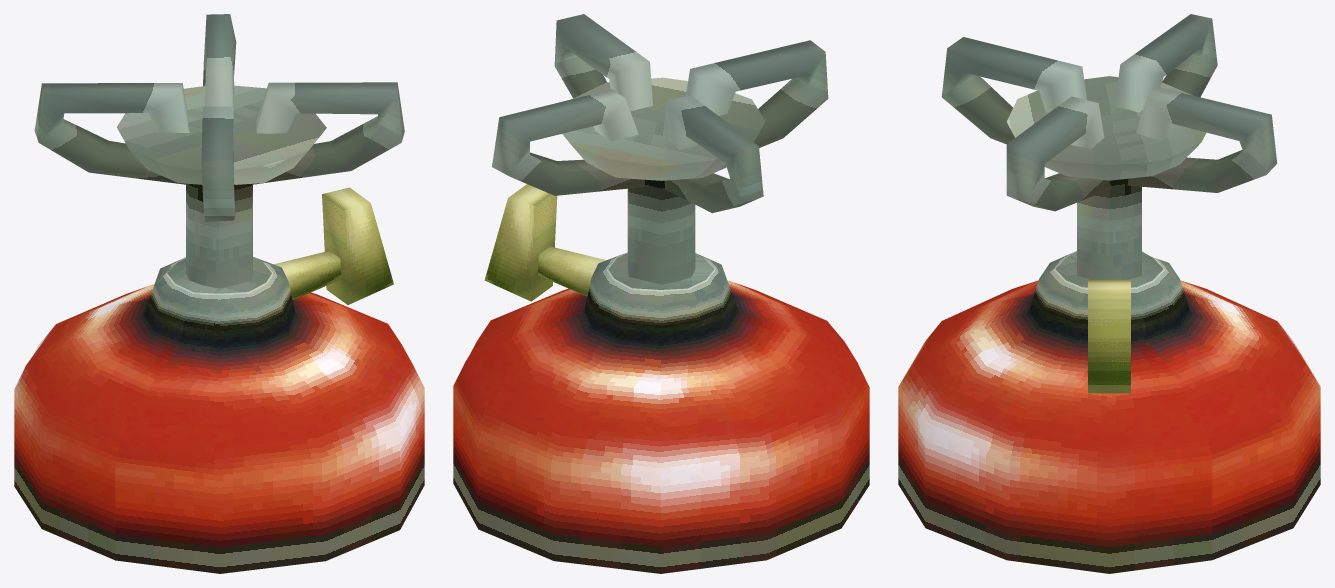
Rendered from a-gass-1.glb.
3 renders of one model, left to right at view 1: azimuth 30°, elevation 25°; view 2: azimuth 150°, elevation 25°; view 3: azimuth 270°, elevation 25°, orthographic.
Visible parts, largest first — view 1: a_gass_1; view 2: a_gass_1; view 3: a_gass_1.
Boxes of the visible parts, <box> form: a_gass_1: <box>14,14,424,573</box>; a_gass_1: <box>453,14,869,573</box>; a_gass_1: <box>898,14,1320,573</box>.
Bounding box in the file's own units: 78 × 82 × 78.
2 materials, 2 textured.
